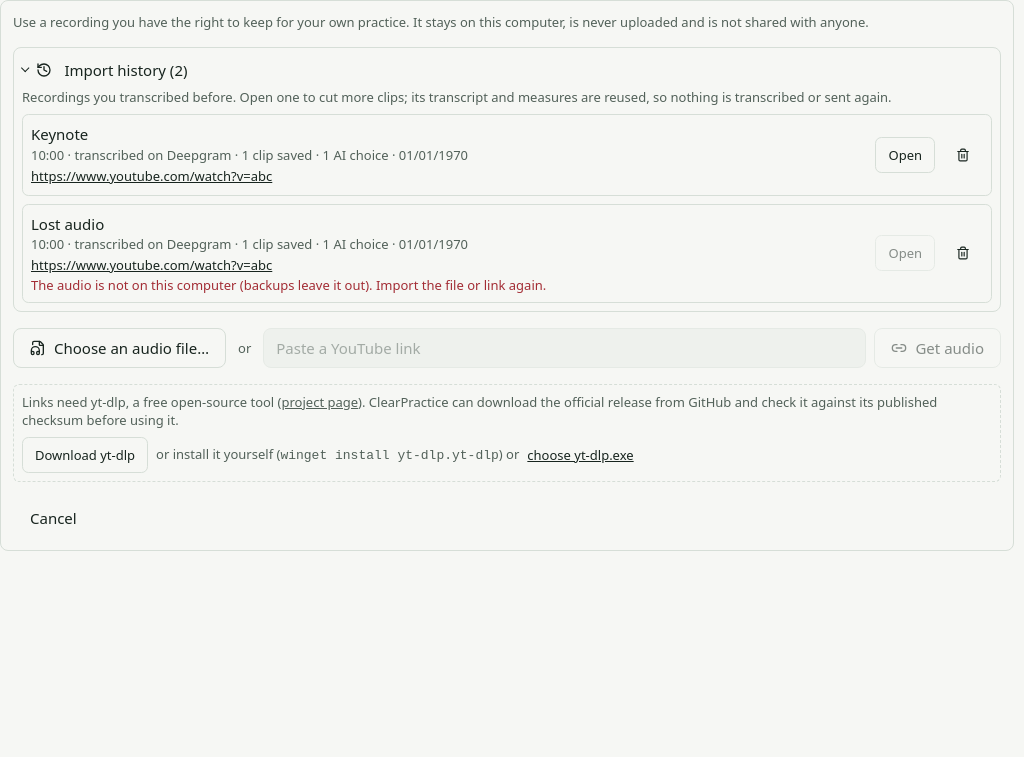
Test: reopens a recording from the import history without transcribing, marks parts already saved and shows earlier AI choices (4.4i)
This screenshot has width=1024, height=757.
Later steps or results of the test are not shown.
Check: the text "transcribed on Deepgram · 1 clip saved · 1 AI choice" is shown 2 times, box [31,146,468,164]; [31,235,468,253]
Check: the button with aria-label "Open Lost audio" is disabled, box [876,235,935,271]
Click the button with aria-label "Open Keynote" at (905, 155), box [876,137,935,173]
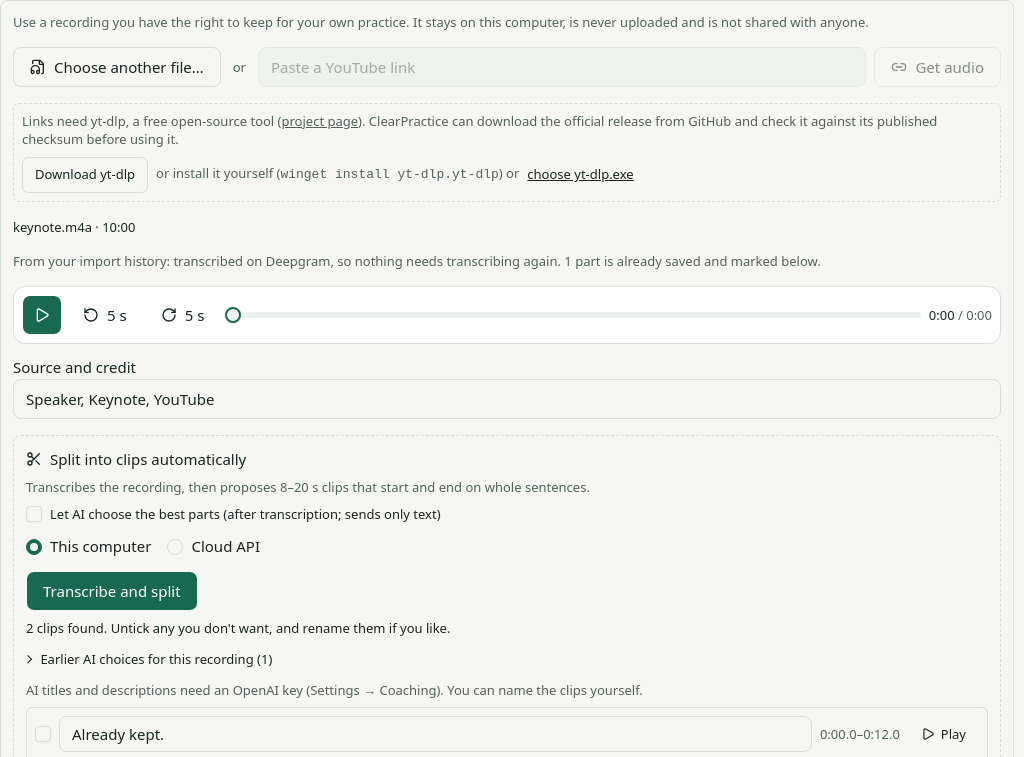
Check: the text "nothing needs transcribing again. 1 part is already saved" is shown, box [13,252,821,270]
Check: the field labelled "Source and credit" holds "Speaker, Keynote, YouTube", box [13,379,1001,419]
Check: the checkbox named "Keep clip 1" is not checked, box [35,726,51,742]
An earlier AI choice can be shown again, at no cost.
Click the heading "Earlier AI choices for this recording (1)" at (149, 659), box [26,645,272,673]
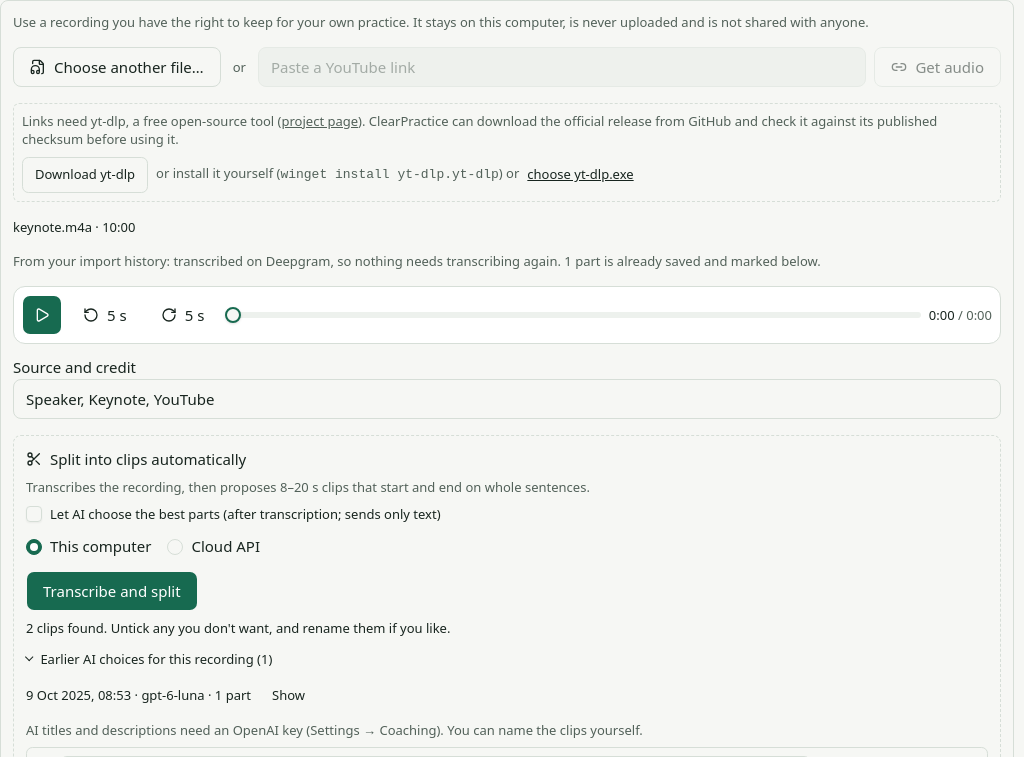
Click the button "Show" at (288, 695), box [259,677,318,713]
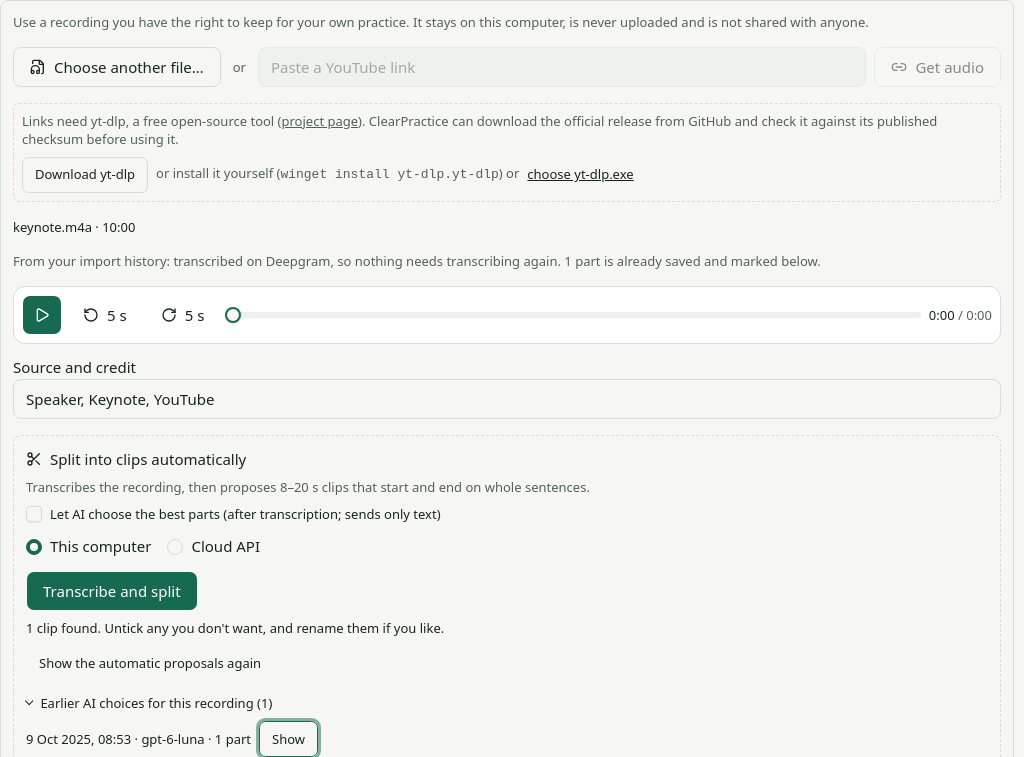
Click the button "Show the automatic proposals again" at (150, 663), box [26,645,274,681]
(page scrolled)
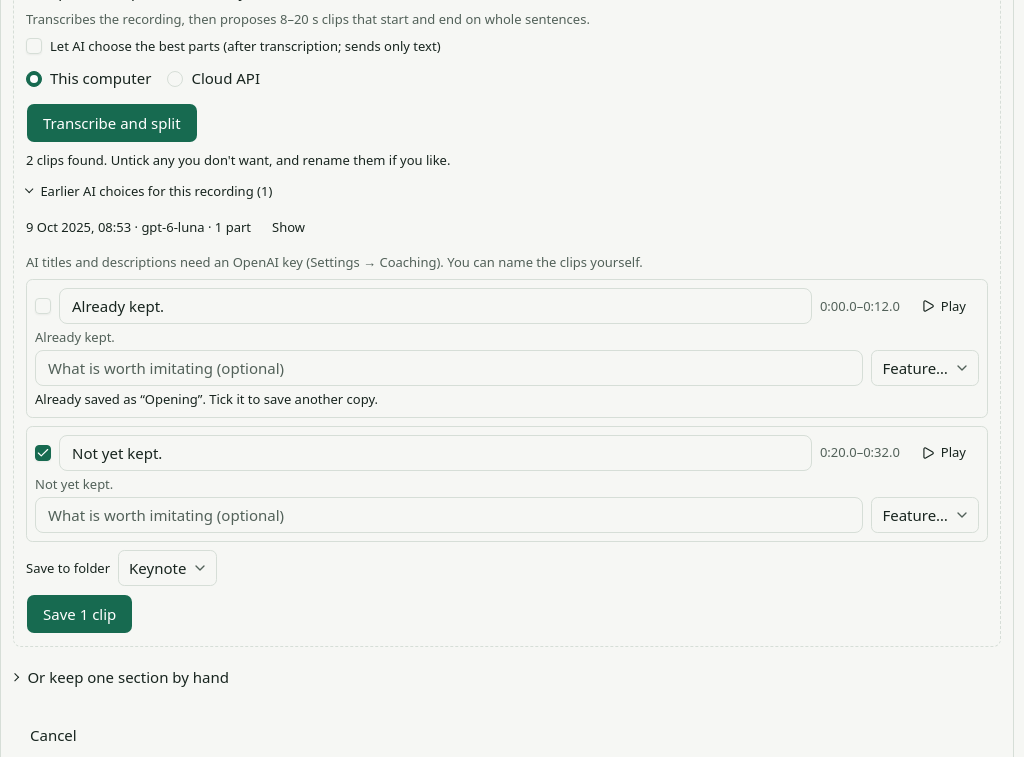
Check: the dropdown named "Save to folder" reads "Keynote", box [118,550,217,586]
